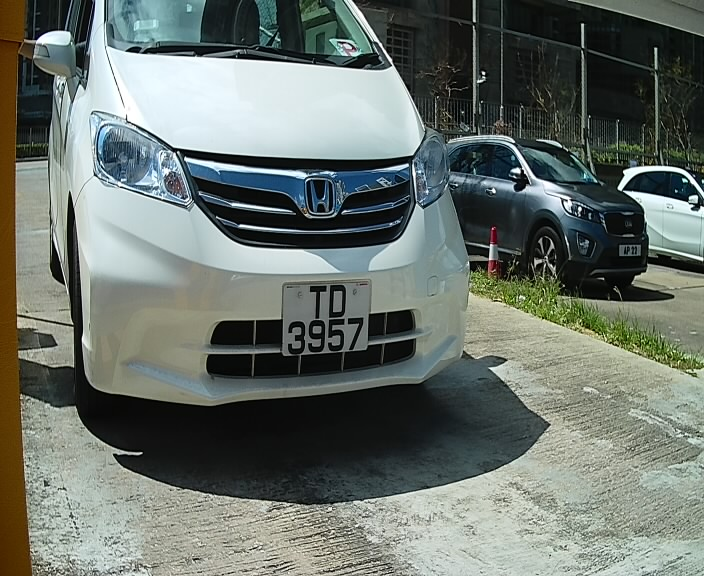Car: (19, 2, 484, 432)
License Plate: (274, 274, 379, 365)
